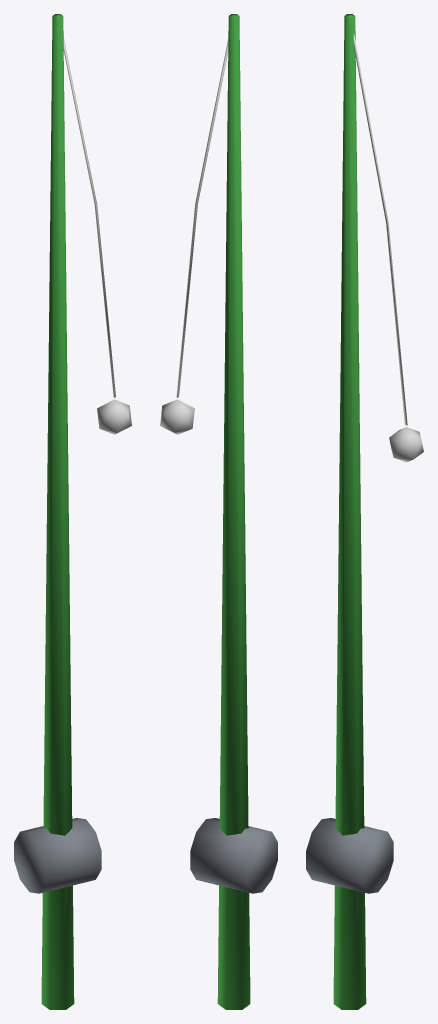
The model's file is fiberglass_fishing_pole.glb.
3 views of the same model, side by side, from view 1: azimuth 30°, elevation 25°; view 2: azimuth 150°, elevation 25°; view 3: azimuth 330°, elevation 25° (orthographic).
Parts seen in each view (by area): view 1: fiberglass_fishing_pole_v0; view 2: fiberglass_fishing_pole_v0; view 3: fiberglass_fishing_pole_v0.
Boxes of the visible parts, x1,y1,x2,y2 form: fiberglass_fishing_pole_v0: (14,14,131,1009); fiberglass_fishing_pole_v0: (160,14,277,1009); fiberglass_fishing_pole_v0: (306,14,423,1009).
Size of the model in its own units: 0.1061 by 1 by 0.0571.
